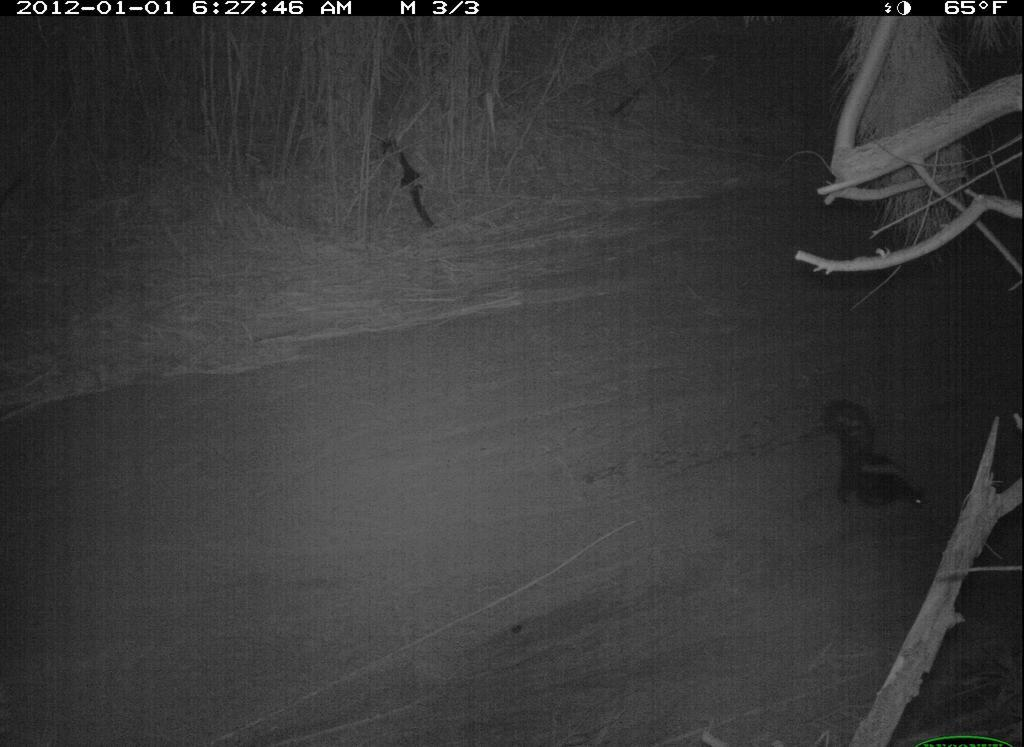skunk: (815, 390, 945, 527)
